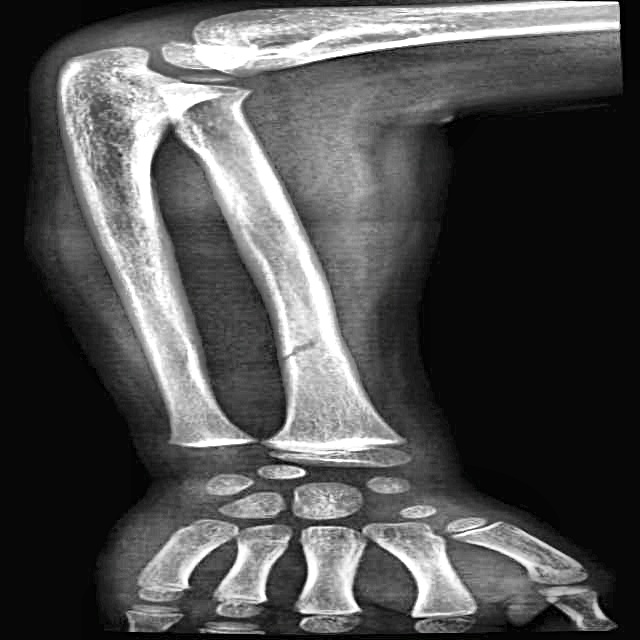Oblique Displaced: (246, 304, 372, 373)
